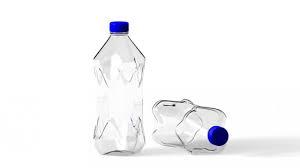Plastic bottle: (90, 20, 152, 152), (139, 93, 232, 156)
